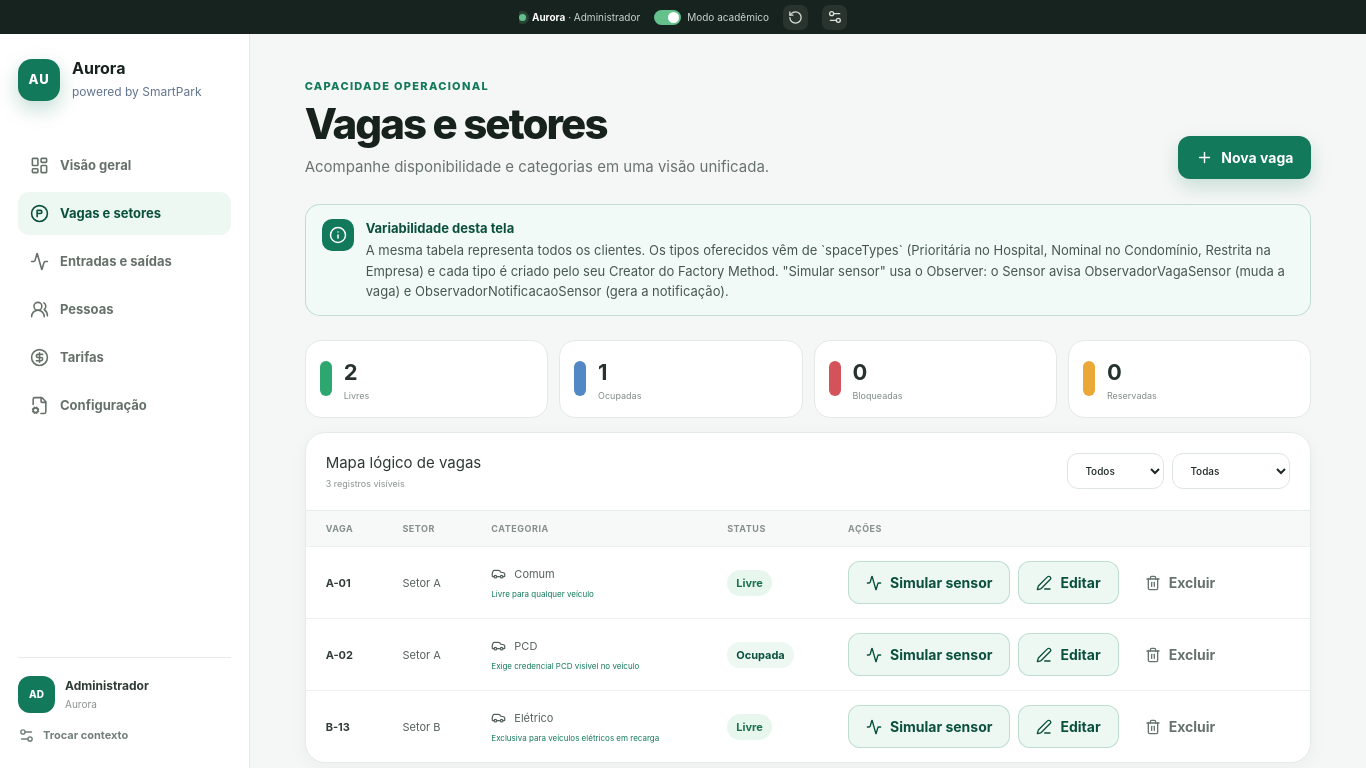
Test: vagas › edita código, setor, tipo e status
This screenshot has width=1366, height=768.
Click the button with aria-label "Editar vaga A-01": (1069, 583) [1018,561,1119,604]
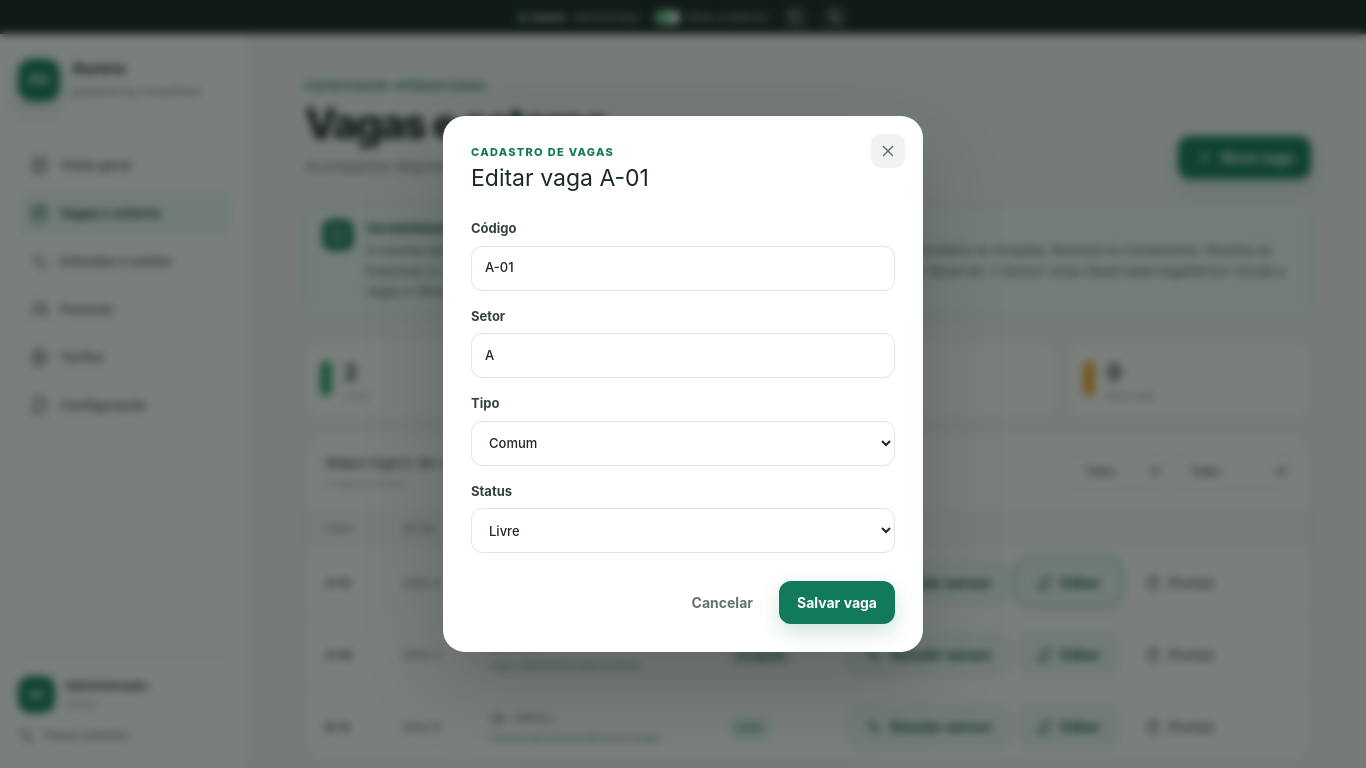
Replace the text in the field labelled "Código" with "A-10": (683, 268) [471,246,895,290]
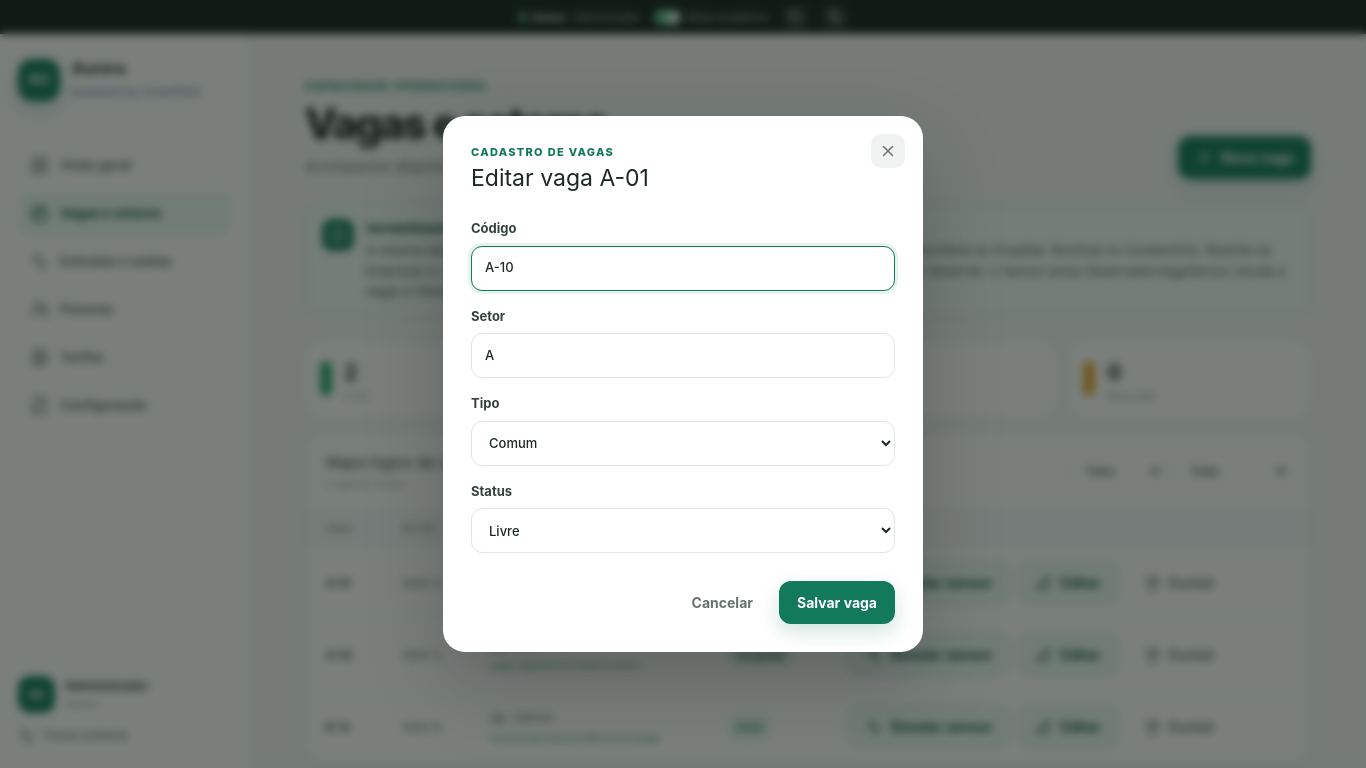
Select "PCD" in the dropdown labelled "Tipo": (683, 443) [471,420,895,466]
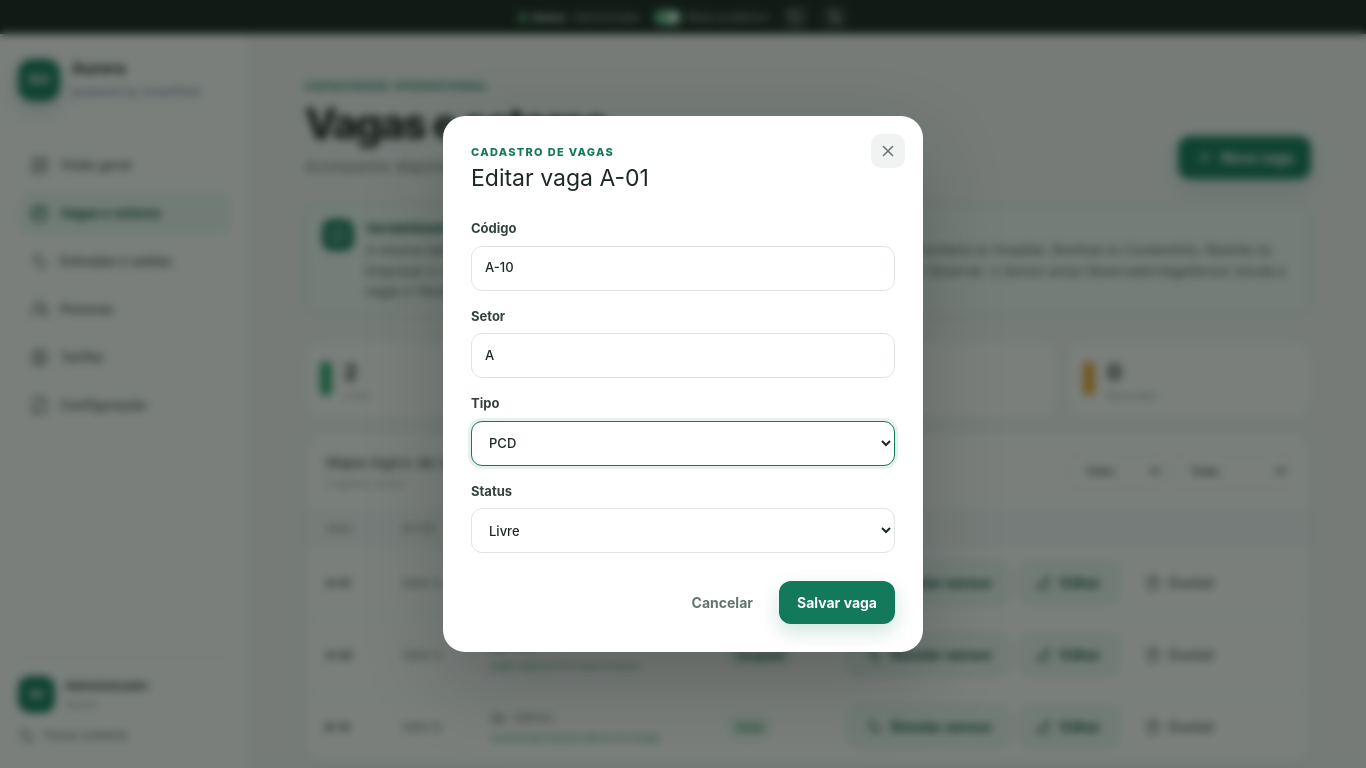
Select "Bloqueada" in the dropdown labelled "Status": (683, 530) [471,508,895,553]
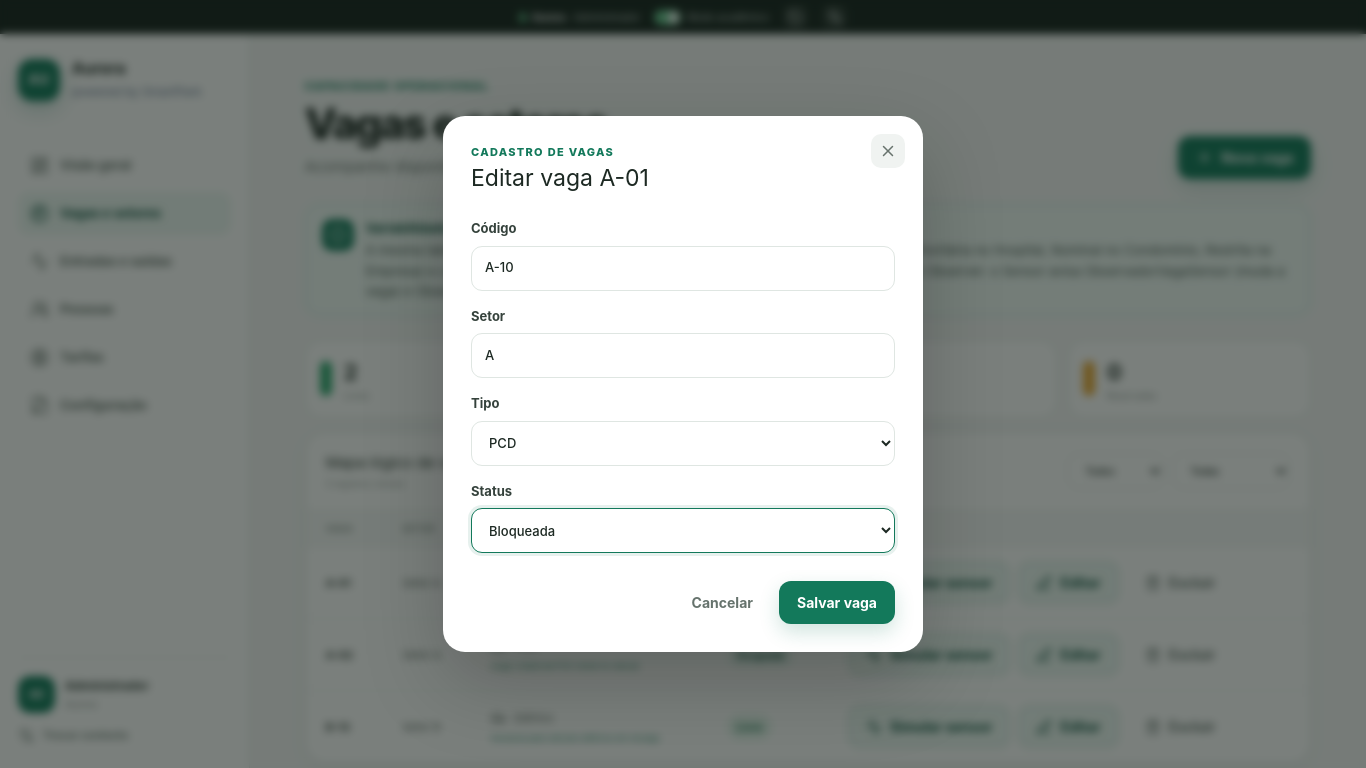
Click the button "Salvar vaga": (837, 602) [779,581,895,624]
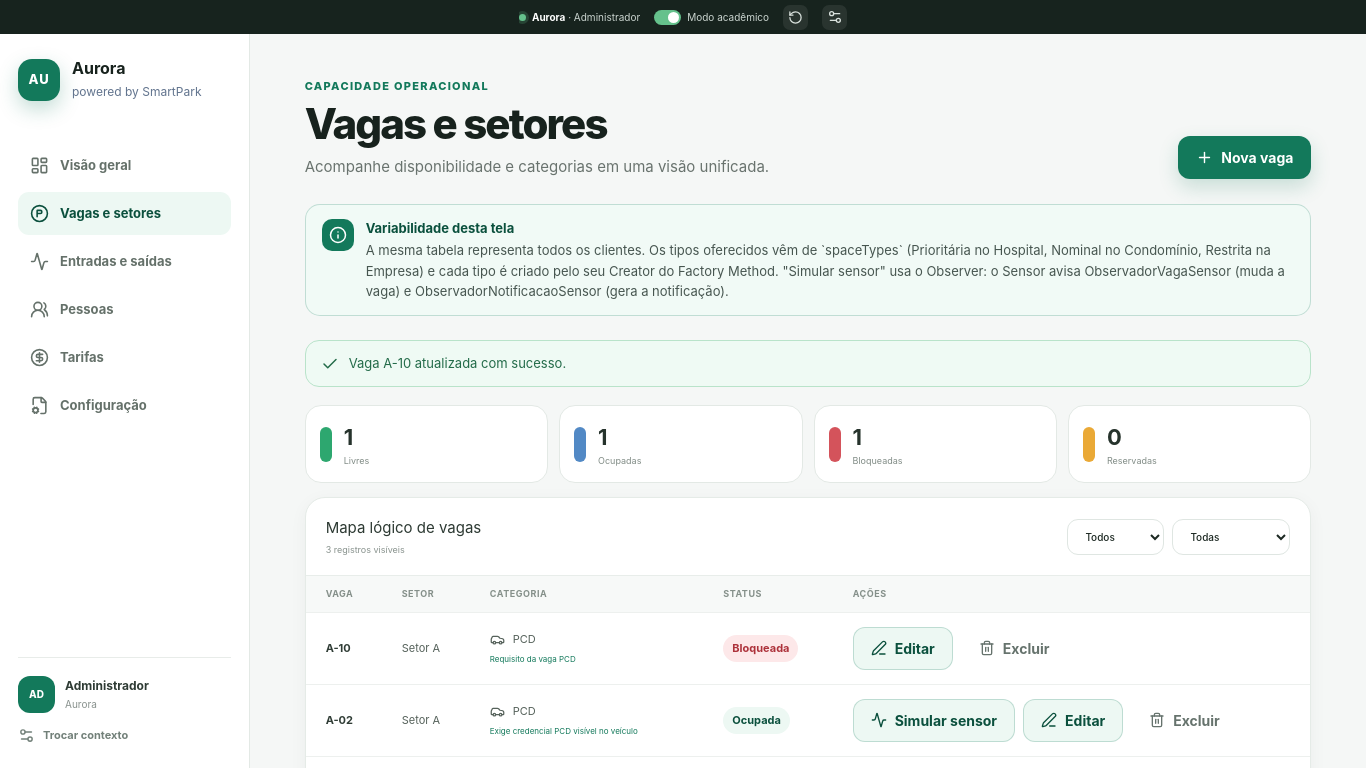
Expected: the text "Vaga A-10 atualizada com sucesso." is shown, [349,354,566,373]
